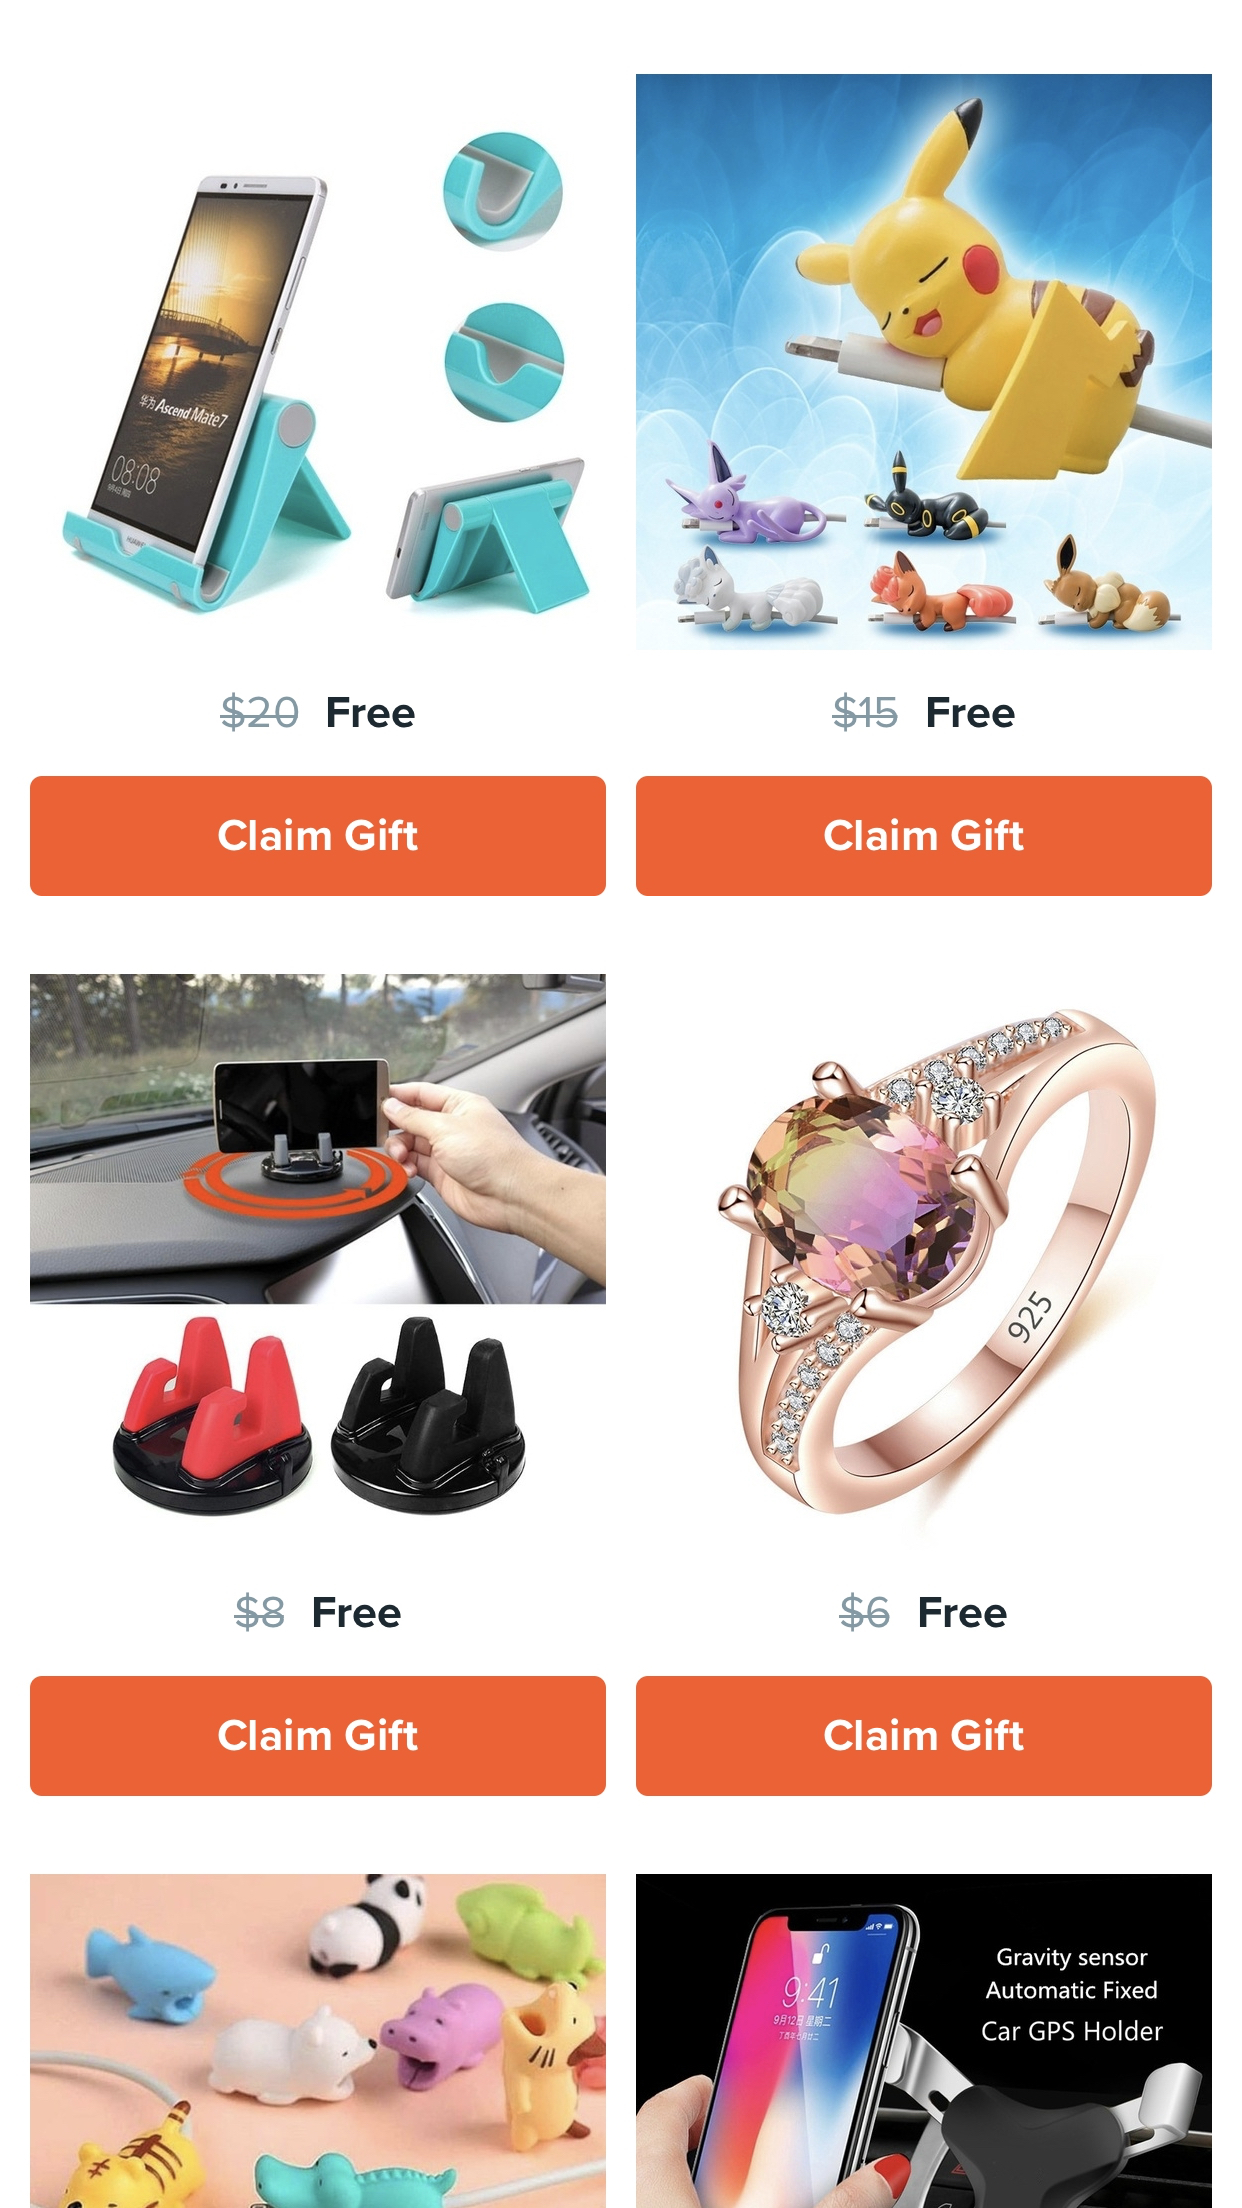Image: (635, 74, 1212, 651), (30, 974, 607, 1518), (62, 130, 591, 616), (716, 1008, 1159, 1515), (635, 1873, 1213, 2208), (30, 1874, 607, 2208)
Text: (220, 692, 300, 732), (328, 698, 417, 729), (312, 1597, 402, 1629), (928, 698, 1016, 729), (919, 1597, 1007, 1629), (833, 692, 899, 732), (839, 1591, 892, 1632), (234, 1592, 287, 1633)
TextButton: (635, 775, 1212, 898), (635, 1676, 1213, 1797), (30, 1676, 607, 1797), (30, 776, 607, 898)
